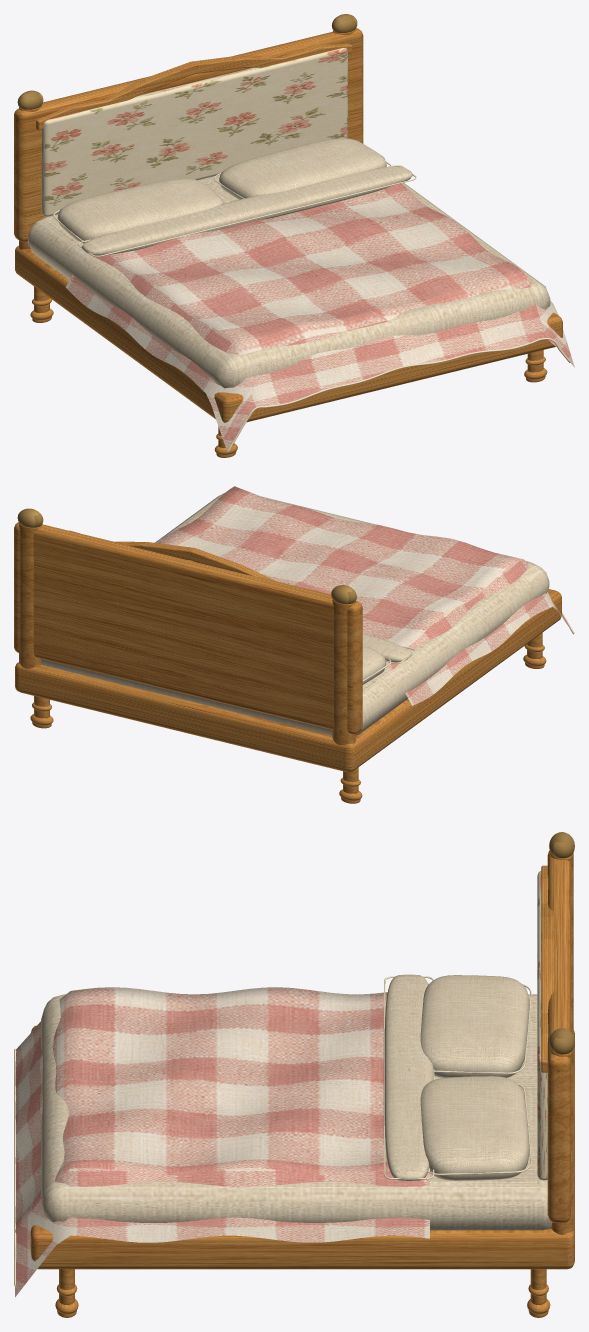
The model's file is SM_InteriorAdditions_Bed.fbx.
3 views of the same model, one above another, from view 1: azimuth 30°, elevation 25°; view 2: azimuth 150°, elevation 25°; view 3: azimuth 270°, elevation 25° (orthographic). The views are drawn at different scales.
Parts seen in each view (by area): view 1: SM_InteriorAdditions_Bed; view 2: SM_InteriorAdditions_Bed; view 3: SM_InteriorAdditions_Bed.
Part boxes in pixels (x1=…): SM_InteriorAdditions_Bed: x1=14, y1=14, x2=574, y2=457; SM_InteriorAdditions_Bed: x1=14, y1=486, x2=574, y2=803; SM_InteriorAdditions_Bed: x1=14, y1=832, x2=574, y2=1317.
Size of what is drawn, in the model's own units: 188 by 205 by 115.
